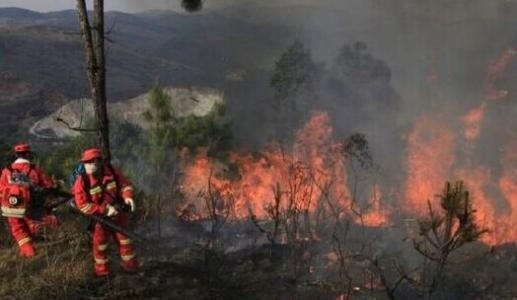fire: (397, 56, 517, 250), (182, 112, 391, 223)
